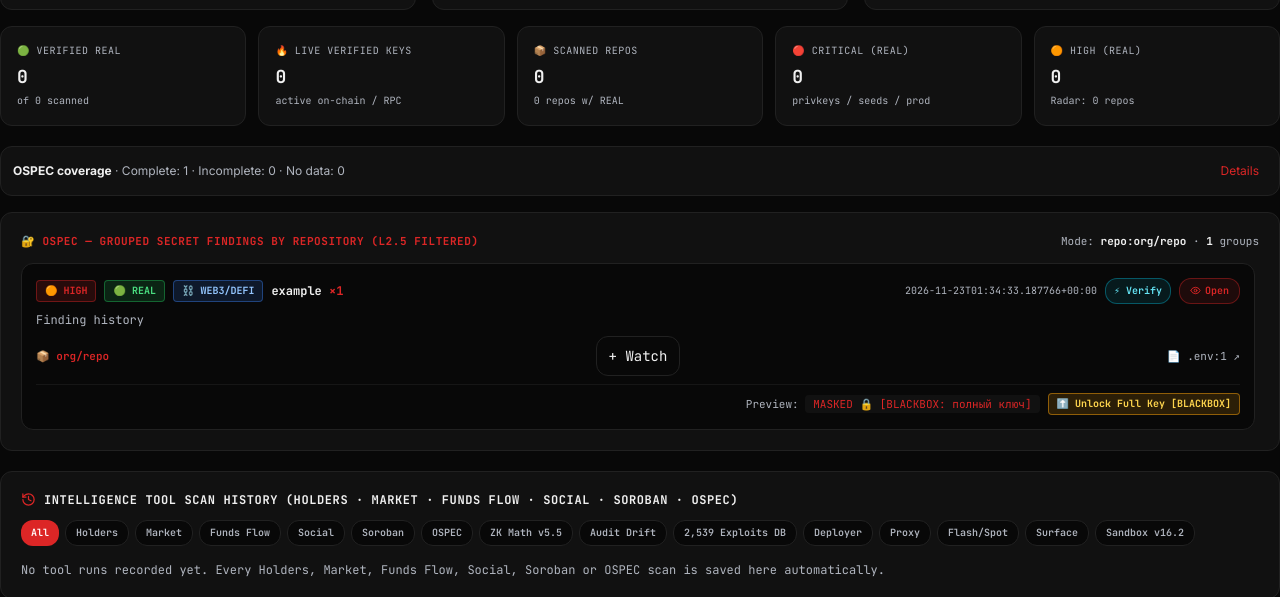
Test: pages versions with exact query/filters and independent offsets, resets on filter change
Earlier steps of the test are not shown.
Later steps or results of the test are not shown.
(page scrolled)
Click the button "Finding history" at point(90, 320), box [36,312,144,328]
(page scrolled)
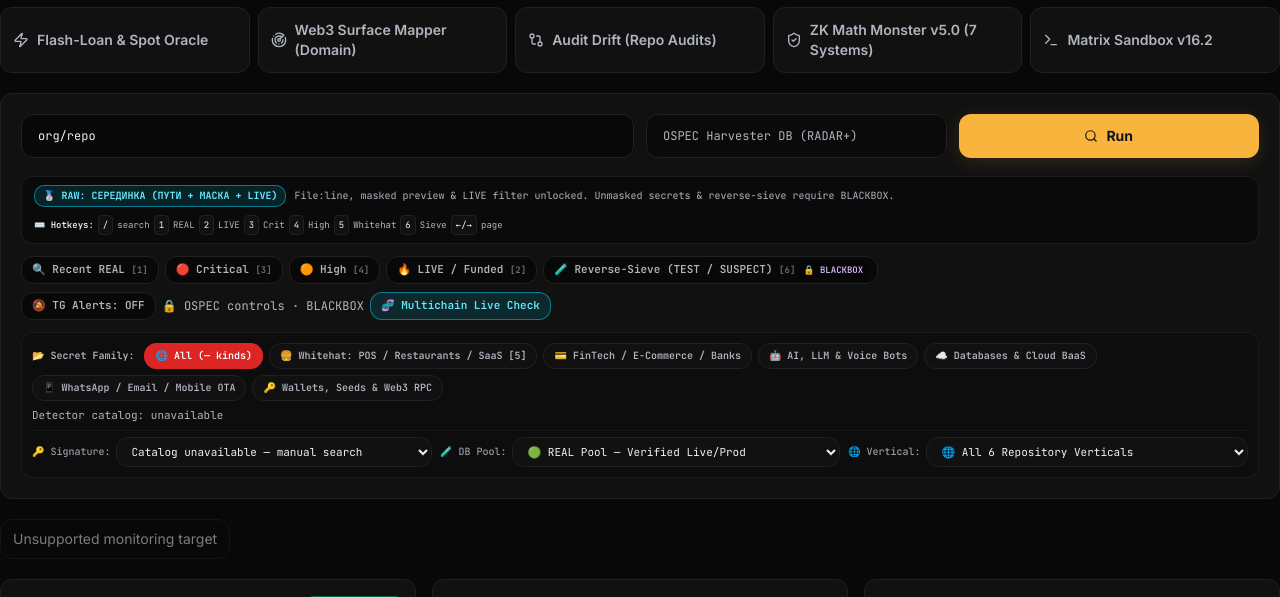
Replace the text in the field with placeholder "Фильтр по типу секрета" with "org/not-searched" at point(328, 136), box [21,114,634,158]
(page scrolled)
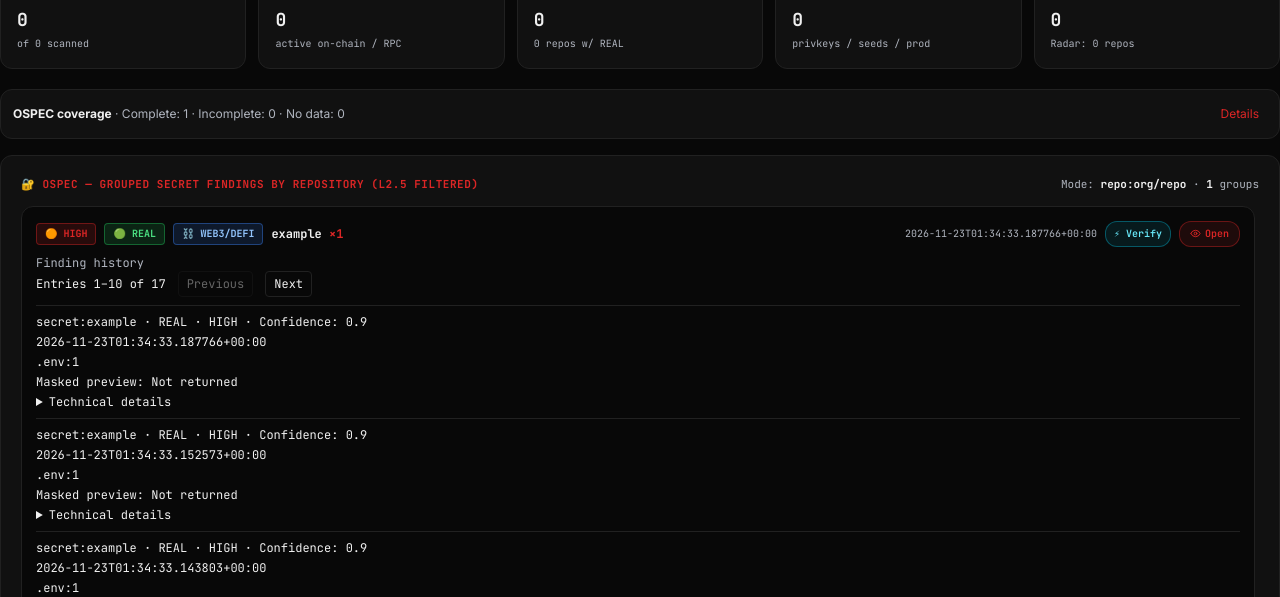
Click the button "Next" at point(289, 284), box [265,271,312,297]
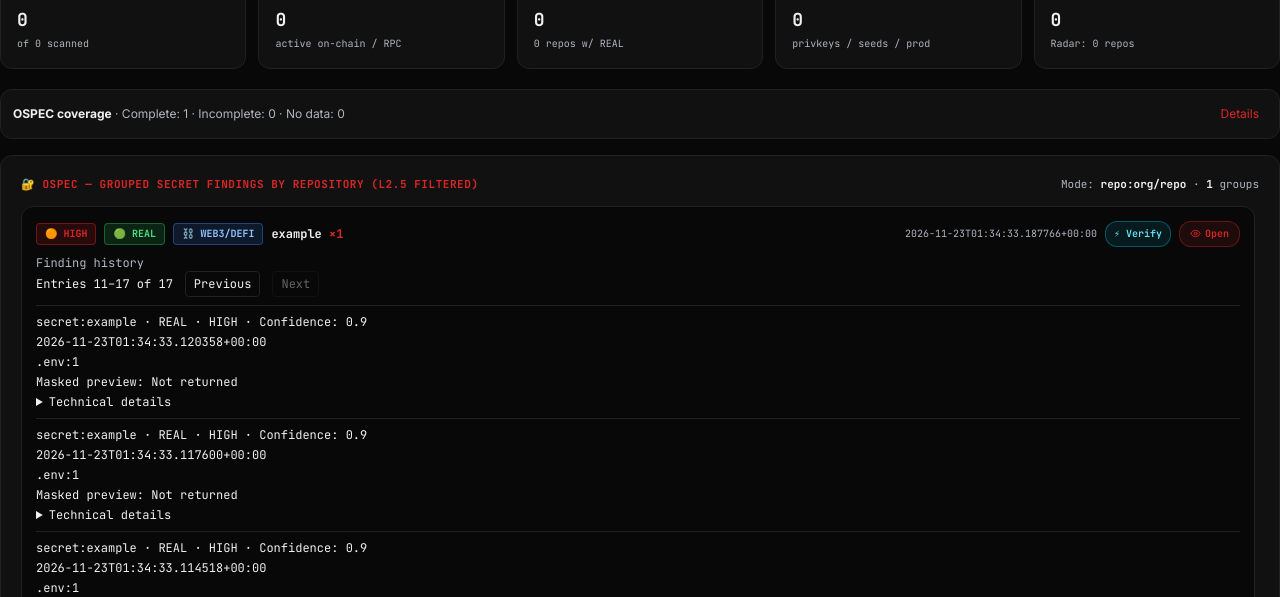
Expected: the button "Previous" is shown
Expected: the button "Next" is disabled, [272,271,319,297]
Click the button "Previous" at point(223, 284), box [185,271,260,297]
(page scrolled)
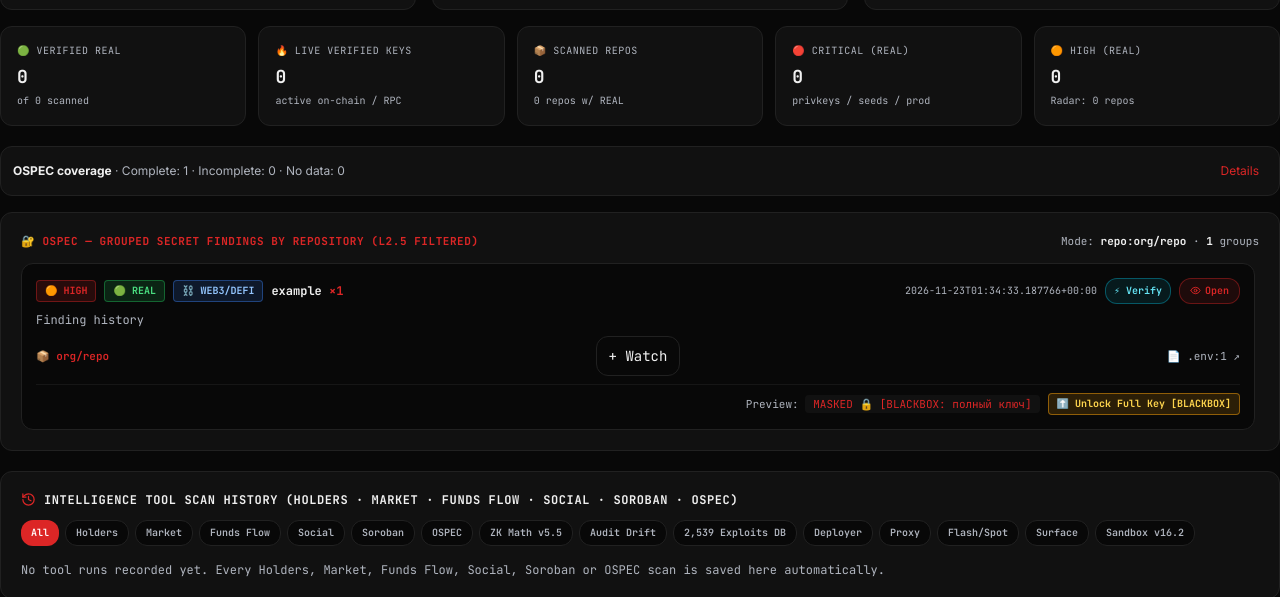
Expected: the element named "OSPEC rescan versions" is shown
Click the button "Finding history" at point(90, 320), box [36,312,144,328]
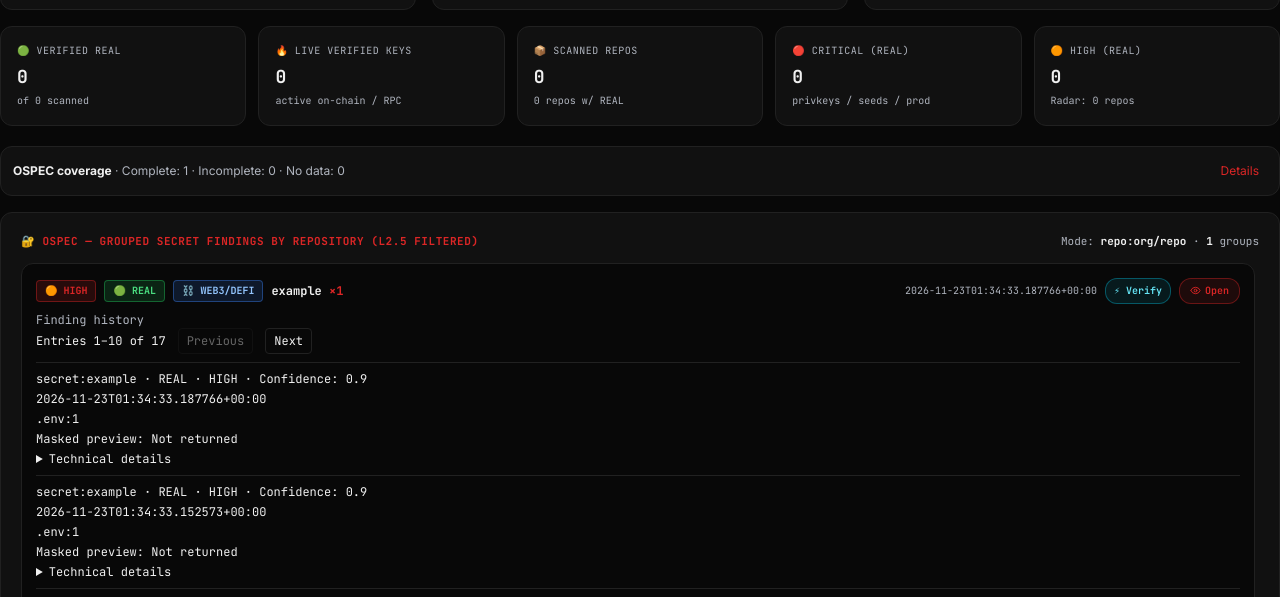
Press 4
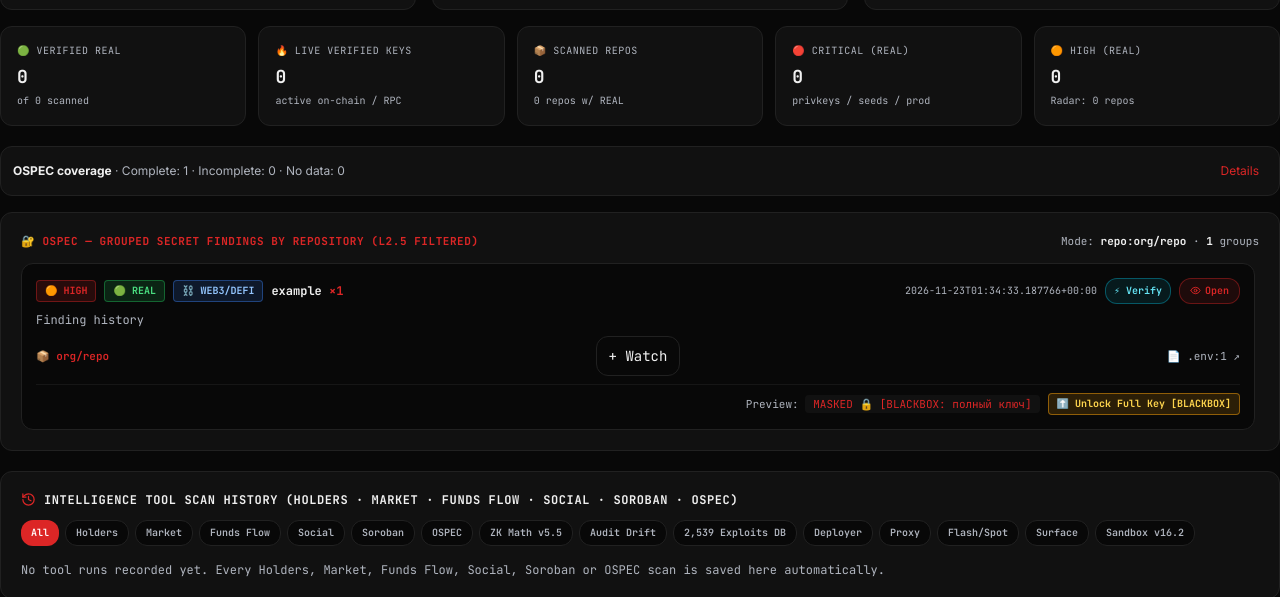
Expected: the element named "OSPEC rescan versions" is shown, [36,312,144,328]
